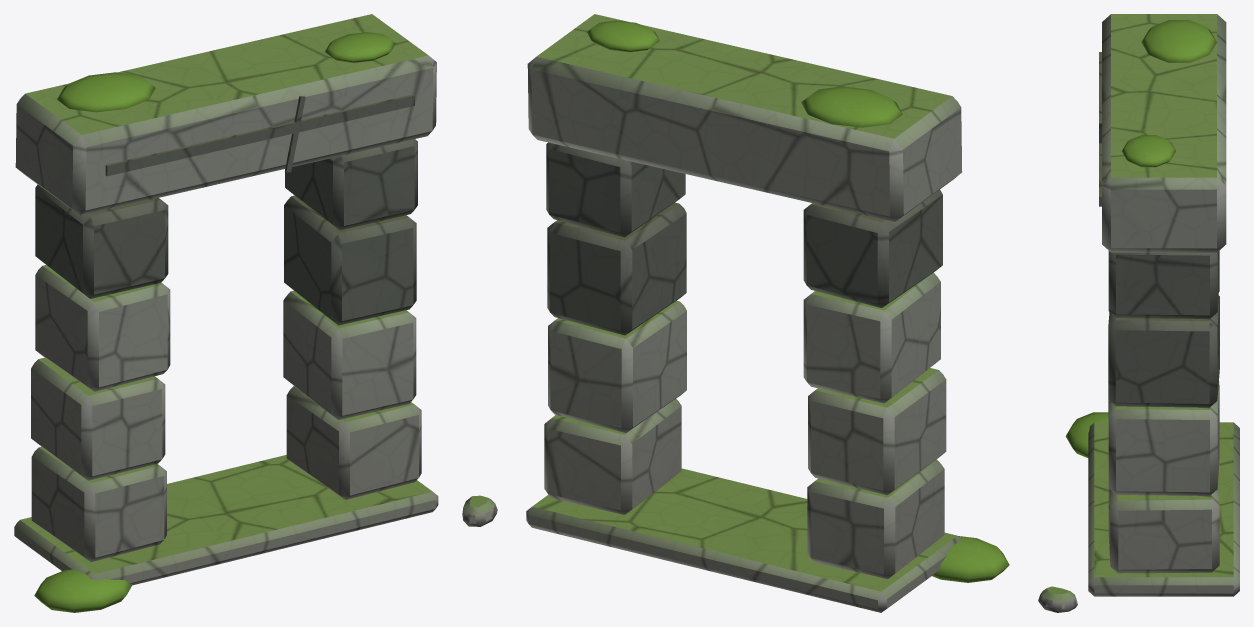
Rendered from stone_doorway.glb.
3 views of the same model, side by side, from view 1: azimuth 30°, elevation 25°; view 2: azimuth 150°, elevation 25°; view 3: azimuth 270°, elevation 25° (orthographic). The views are drawn at different scales.
Parts seen in each view (by area): view 1: stone_doorway; view 2: stone_doorway; view 3: stone_doorway.
Boxes of the visible parts, x1,y1,x2,y2 form: stone_doorway: (14, 14, 497, 612); stone_doorway: (526, 14, 1009, 612); stone_doorway: (1038, 14, 1239, 612).
Bounding box in the file's own units: 3.08 × 3.25 × 1.33.
Materials: 3 (3 with a texture image).
